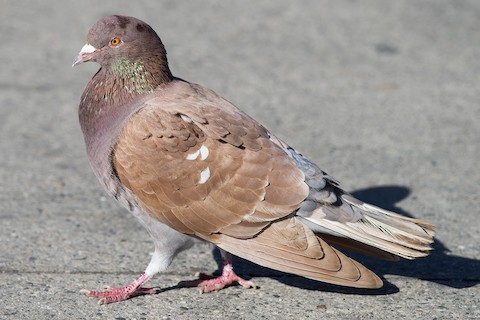pigeon: (68, 12, 440, 304)
